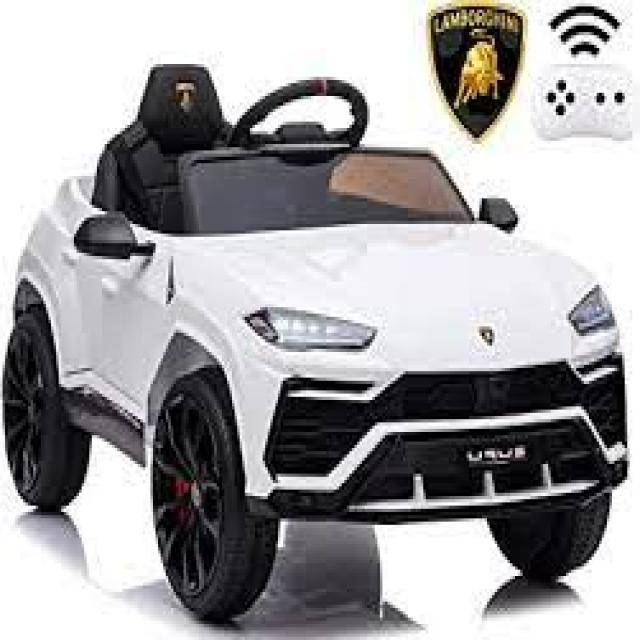Car: (0, 61, 630, 624)
